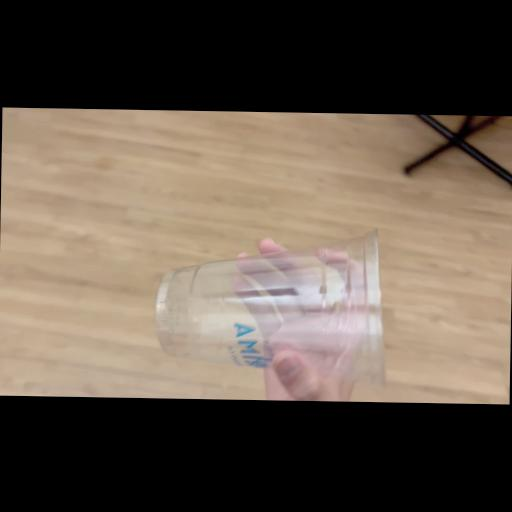lp_plastic_cup: (146, 216, 407, 381)
